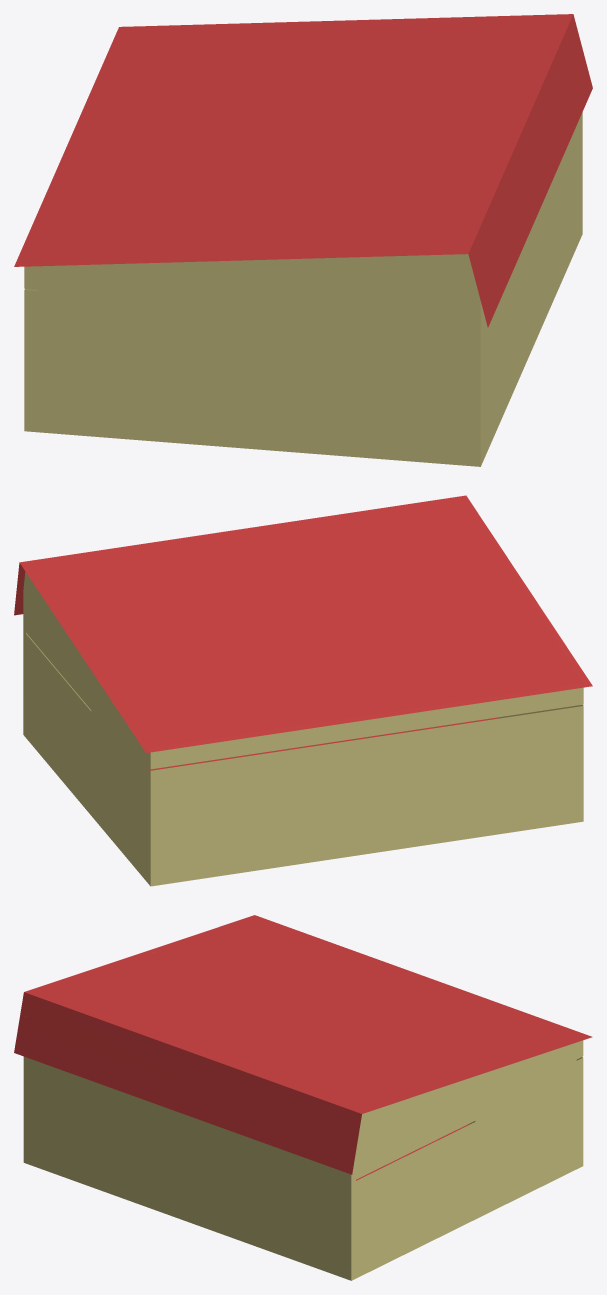
3 views of the same model, one above another, from view 1: azimuth 30°, elevation 25°; view 2: azimuth 150°, elevation 25°; view 3: azimuth 270°, elevation 25° (orthographic). The views are drawn at different scales.
Bounding box in the file's own units: 41.46 × 42.06 × 13.31.
